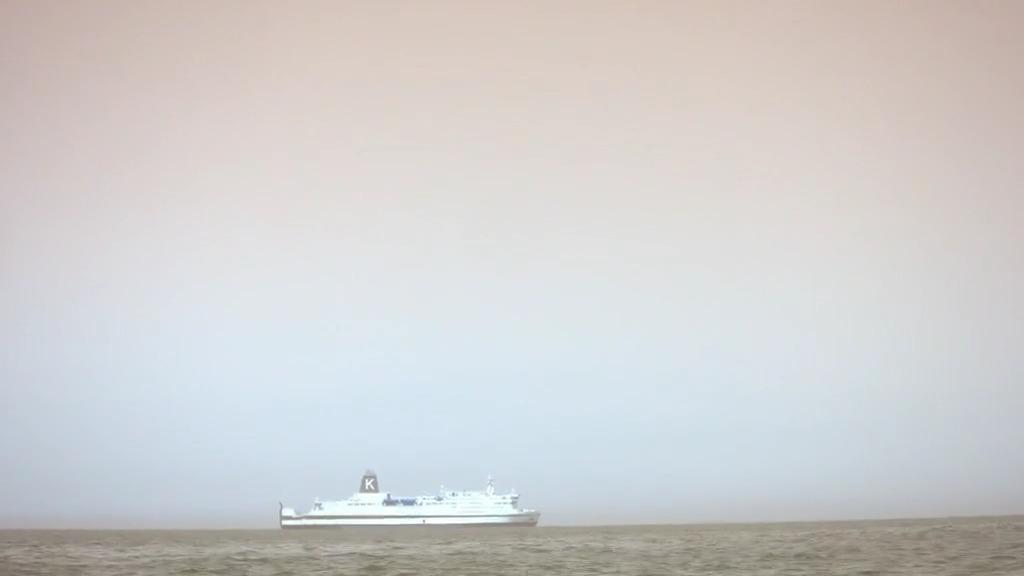PassengerShip: (275, 468, 545, 532)
